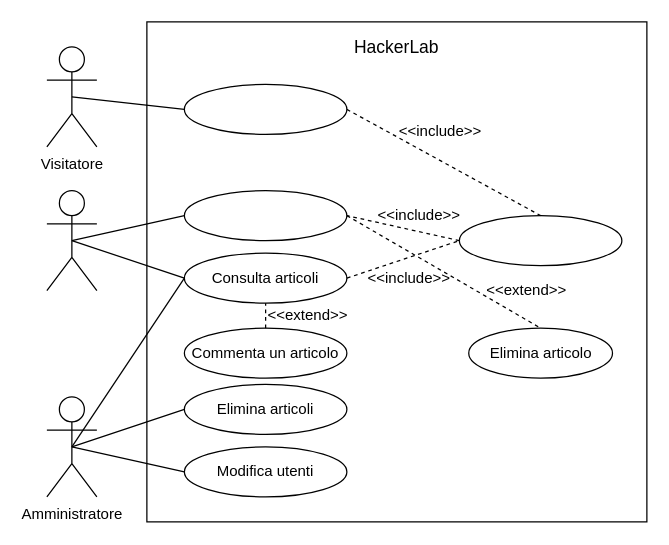
Image size: 669x545. Some labels were removed from this diagram. The centre of each missing label's shape, as x and y in pixels:
Aggiunge un articolo: (x=265, y=215)
Consulta pagina principale: (x=265, y=108)
Registra account: (x=540, y=240)
Utente: (x=71, y=240)
